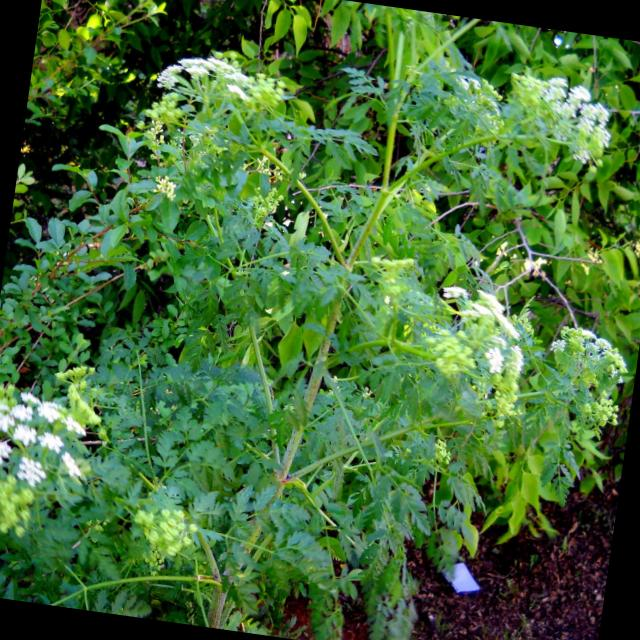Poisonous-Hemlock: (57, 52, 614, 640)
